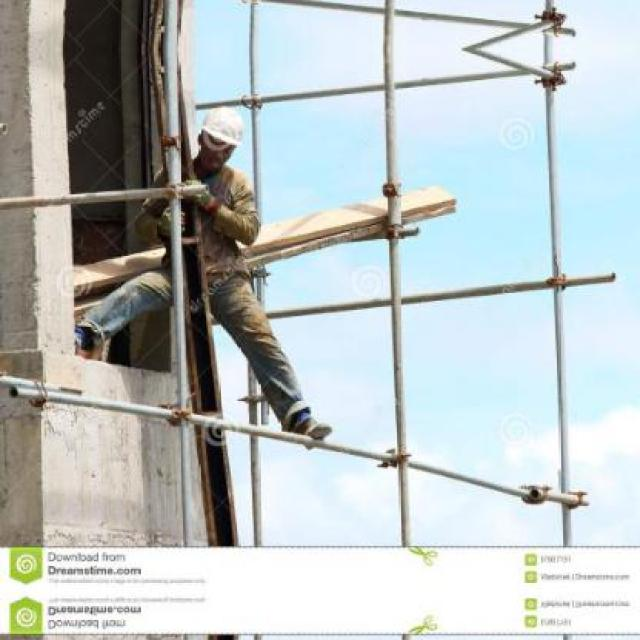helmet: (192, 100, 245, 175)
